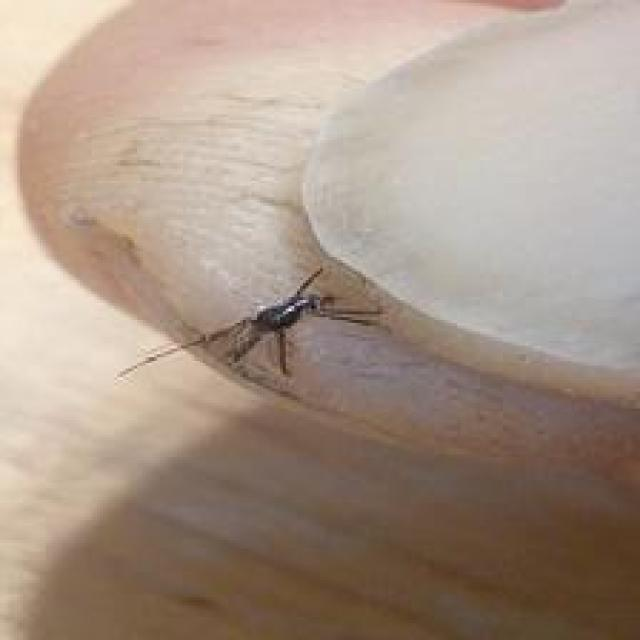Aedes albopictus: (116, 266, 384, 383)
